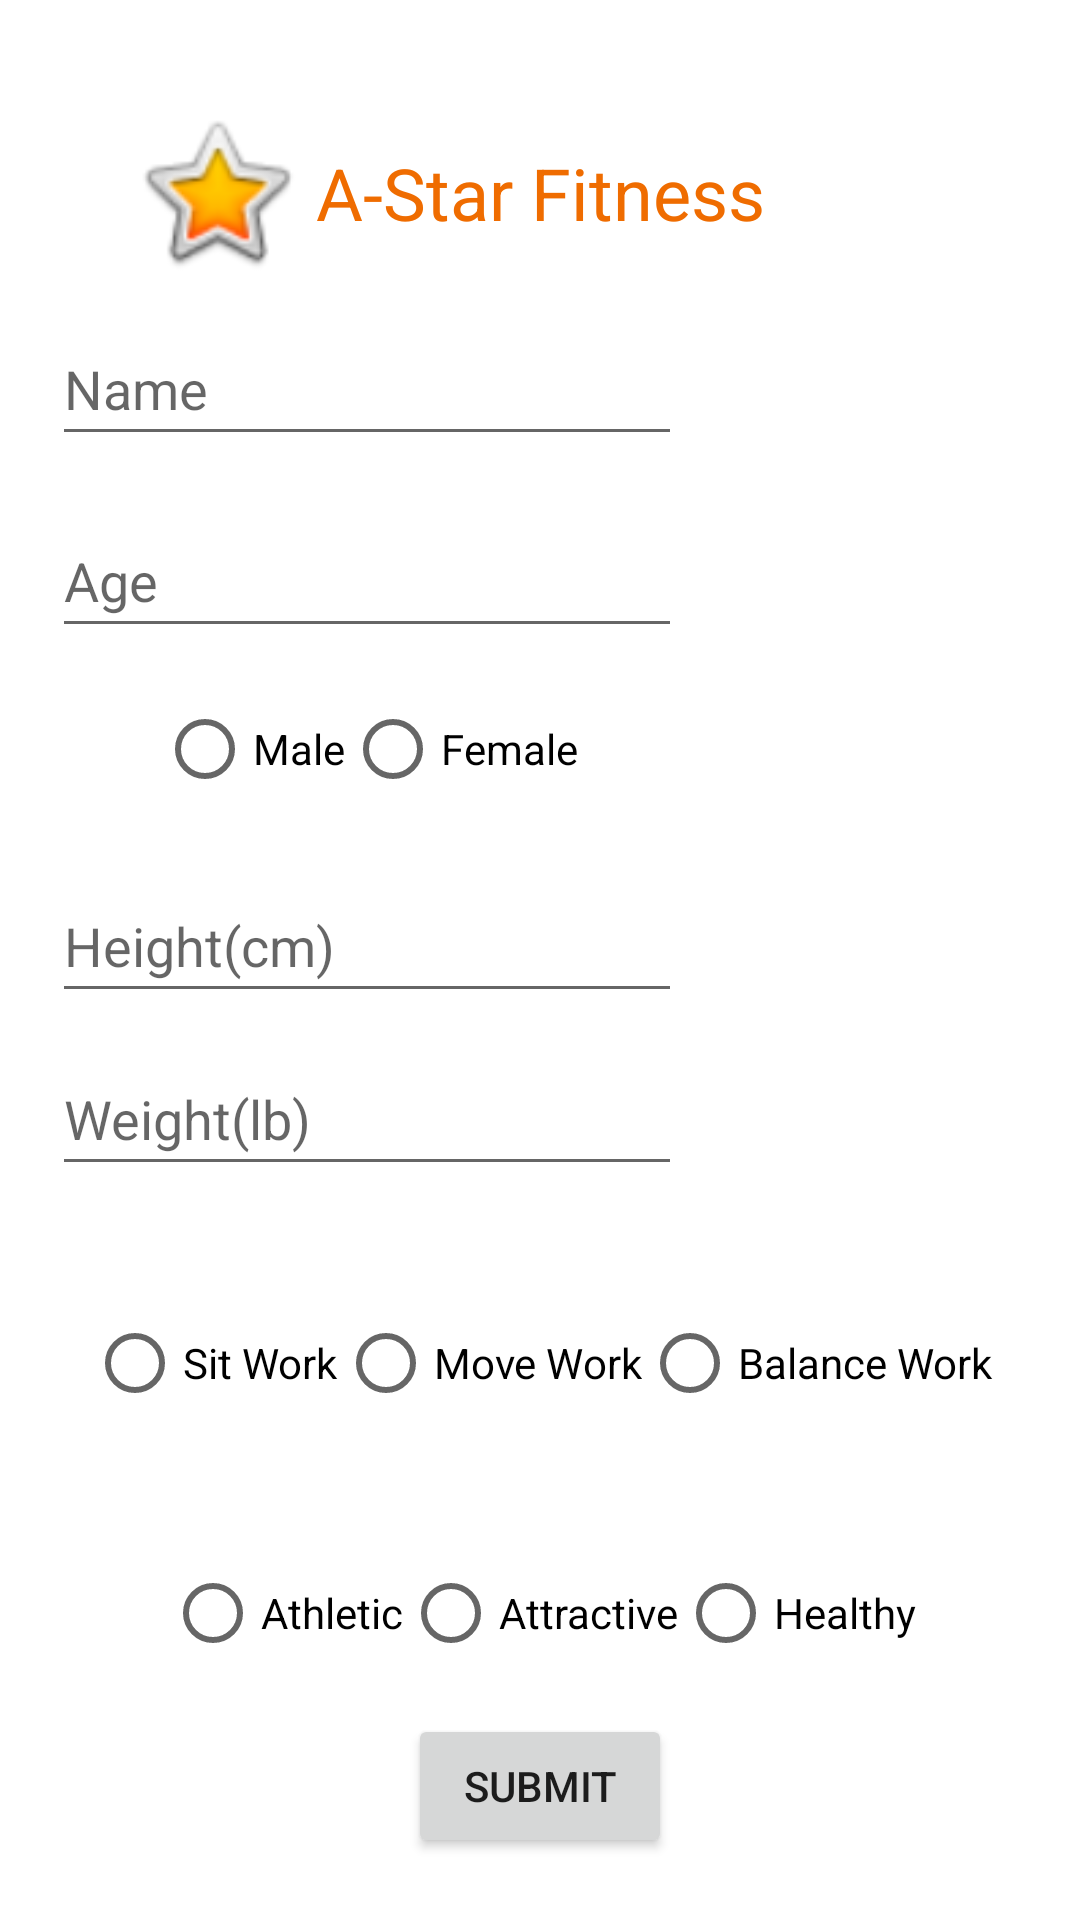

Point at icon controls on the screen. Image size 1080px x 1920px, points as point (x, y).
star on: point (218, 193)
